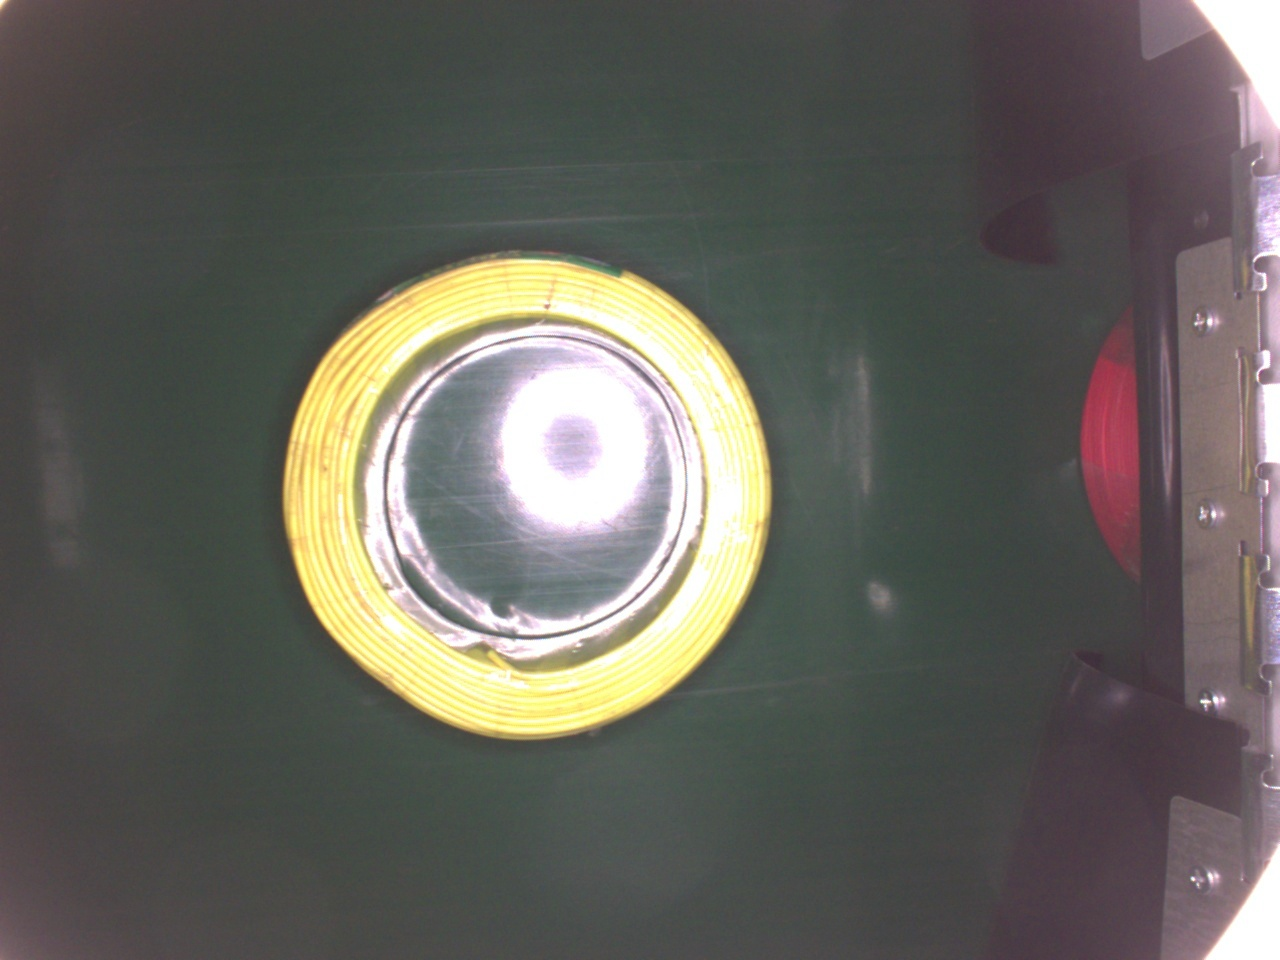yellow: (281, 244, 779, 742)
